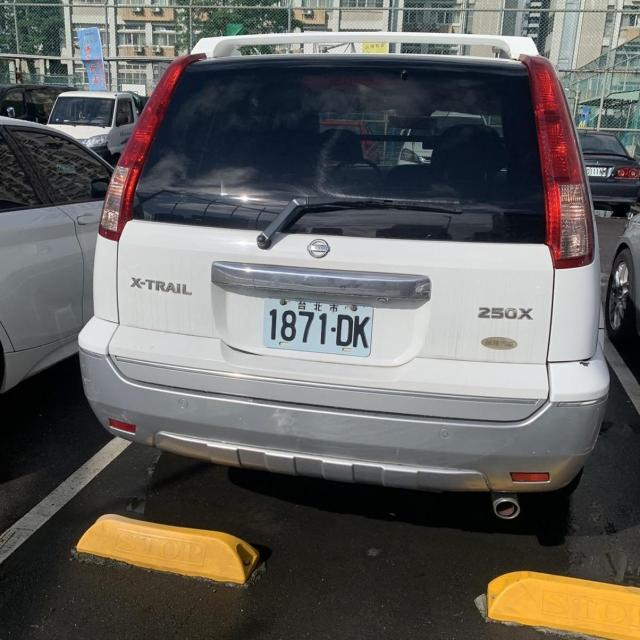W: (258, 285, 380, 359)
